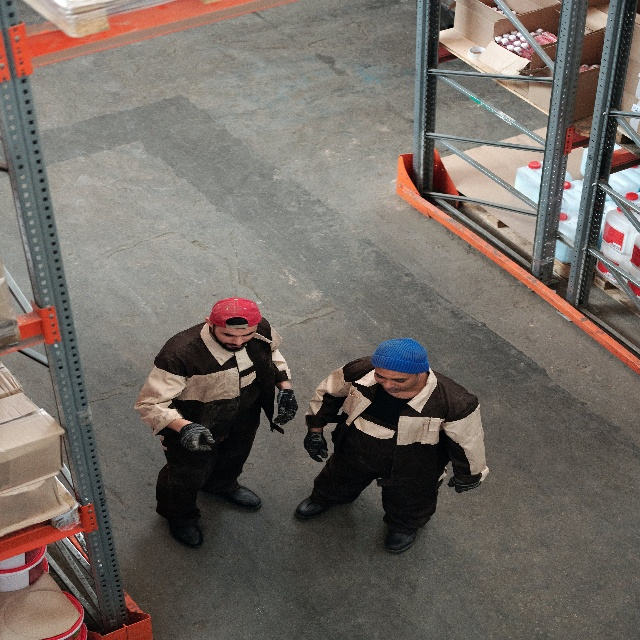Guantes: (178, 418, 215, 453), (273, 388, 298, 429), (302, 427, 328, 463), (447, 475, 482, 494)
